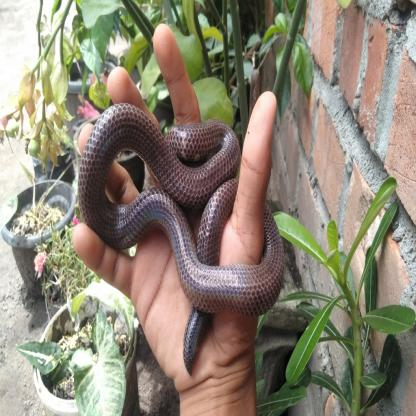Snake: (73, 96, 286, 376)
